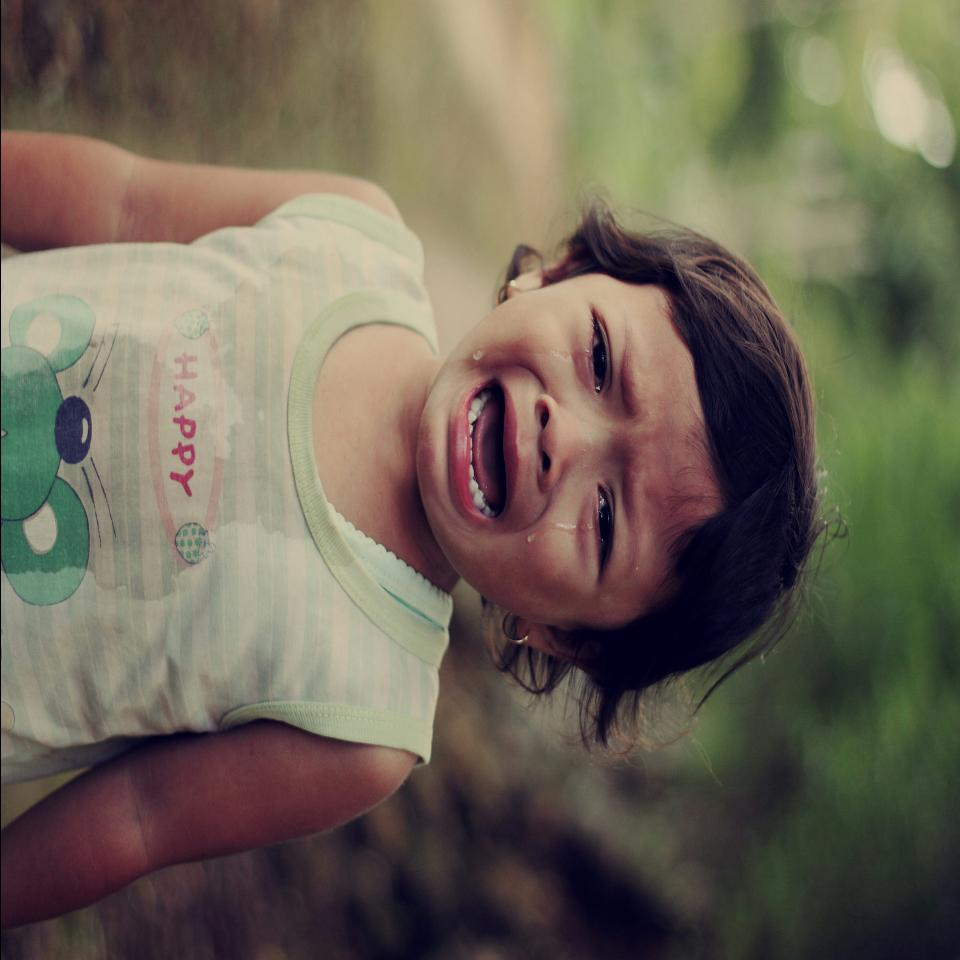Sadness: (418, 261, 709, 667)
